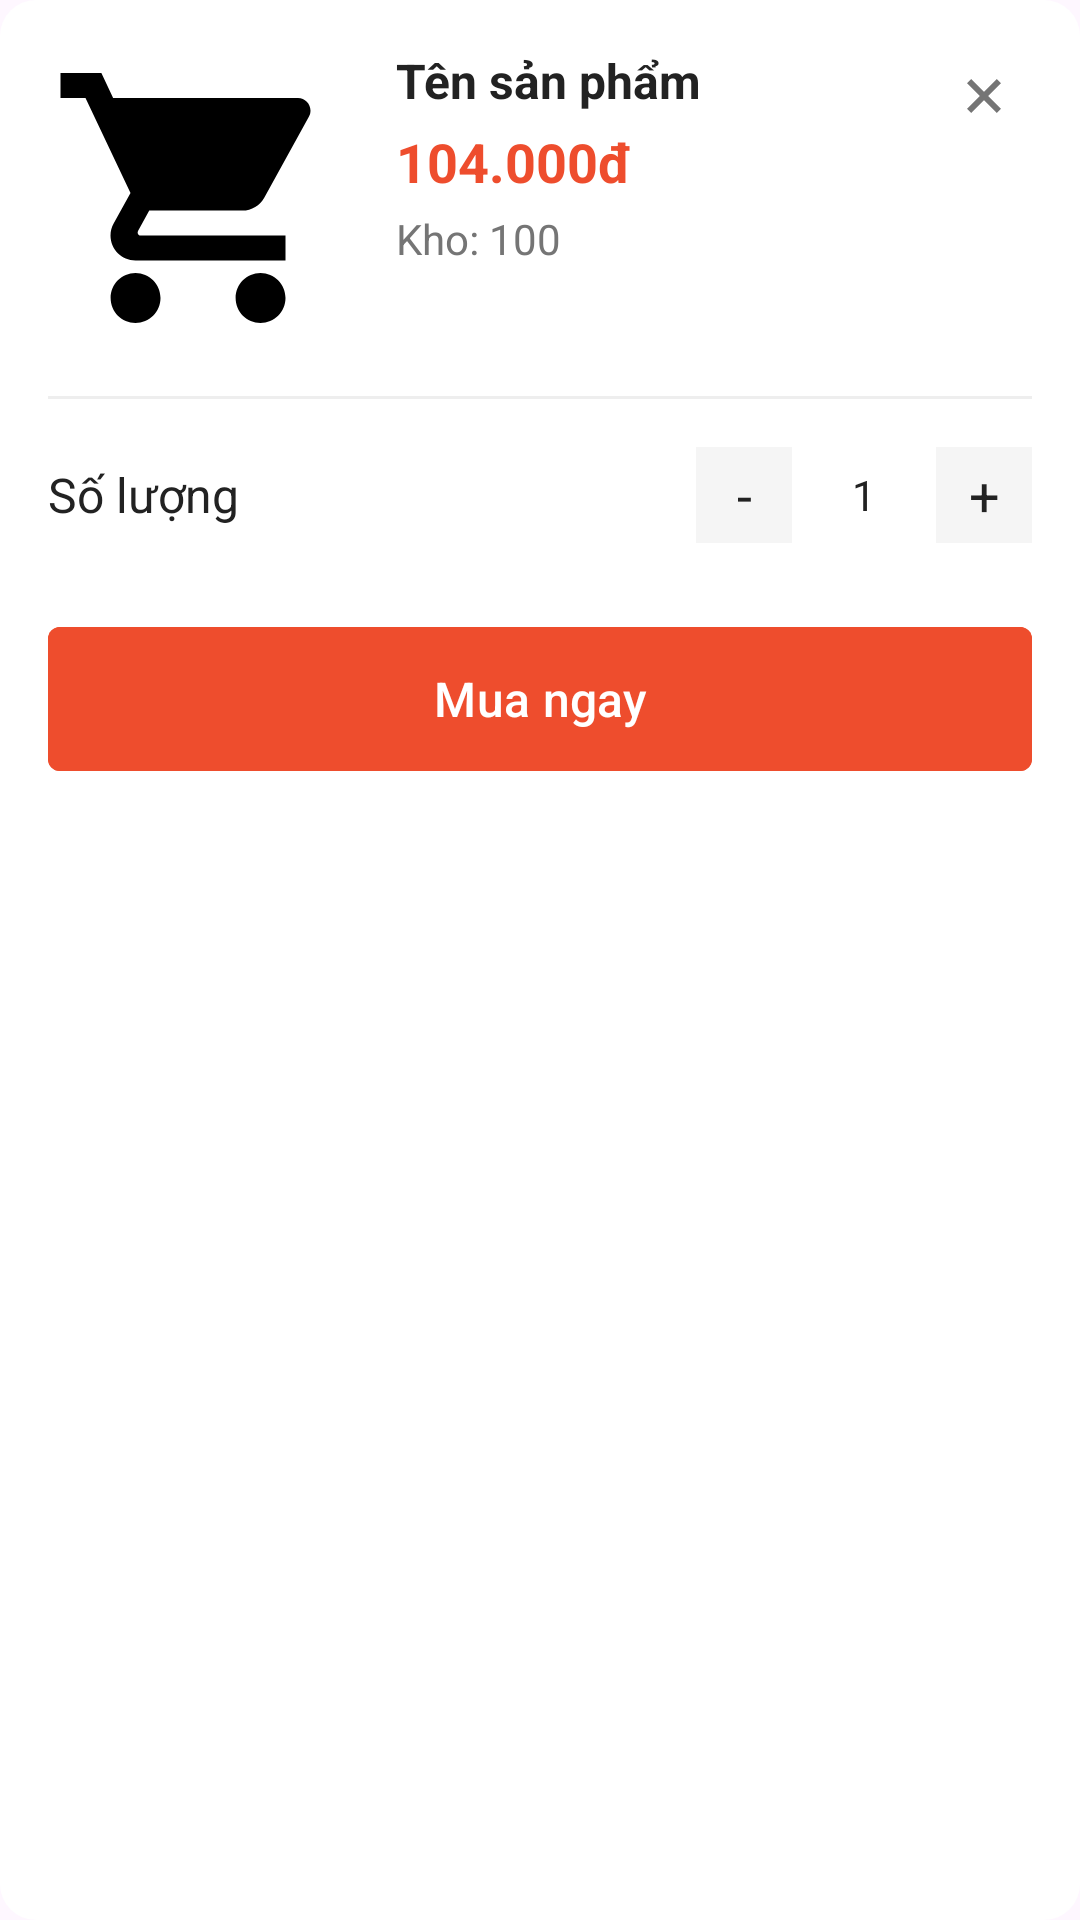

Icon click points for this 1080x1920 phone screenshot, format (x=x, y=y):
shopping cart: (x=185, y=198)
